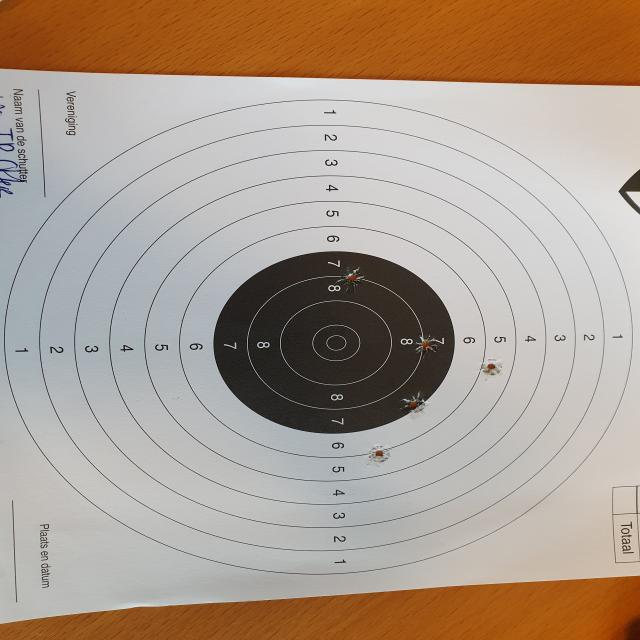7: (476, 356, 508, 378), (367, 444, 393, 468)
8: (402, 392, 430, 418)
9: (336, 268, 367, 291), (413, 334, 441, 357)
Black Contour: (213, 250, 454, 434)
Target: (0, 99, 636, 575)
